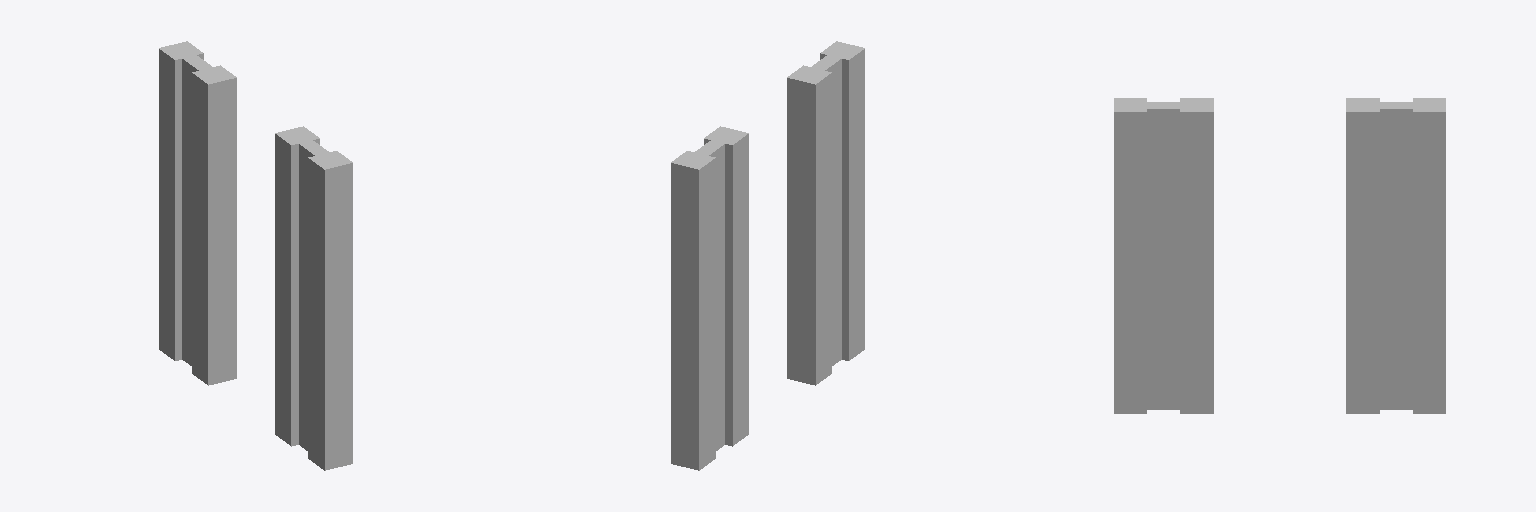
File: wall-wood-doorway-base.obj
3 views of the same model, side by side, from view 1: azimuth 30°, elevation 25°; view 2: azimuth 150°, elevation 25°; view 3: azimuth 270°, elevation 25° (orthographic).
Parts seen in each view (by area): view 1: wall-wood-doorway-base; view 2: wall-wood-doorway-base; view 3: wall-wood-doorway-base.
Part boxes in pixels (x1,y1,x2,y2): wall-wood-doorway-base: (159, 41, 352, 470); wall-wood-doorway-base: (671, 41, 864, 470); wall-wood-doorway-base: (1114, 98, 1445, 413).
Size of the model in its own units: 0.1 by 1 by 1.